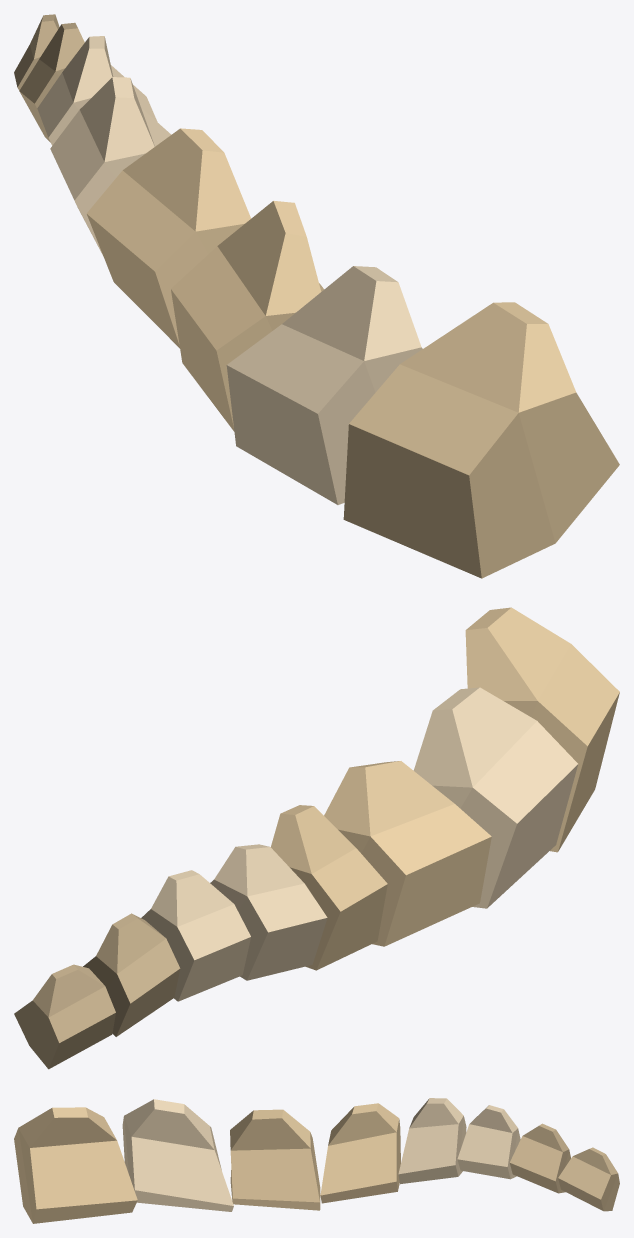
Rendered from Bone_Spine_2__0.glb.
3 views of the same model, one above another, from view 1: azimuth 30°, elevation 25°; view 2: azimuth 150°, elevation 25°; view 3: azimuth 270°, elevation 25° (orthographic). The views are drawn at different scales.
Visible parts, largest first — view 1: Bone_Spine_2__0; view 2: Bone_Spine_2__0; view 3: Bone_Spine_2__0.
Boxes of the visible parts, x1,y1,x2,y2 form: Bone_Spine_2__0: (14, 14, 619, 578); Bone_Spine_2__0: (14, 607, 619, 1069); Bone_Spine_2__0: (14, 1098, 619, 1223).
Size of the model in its own units: 0.1853 by 0.1634 by 0.7616.
Materials: 1 (1 with a texture image).
